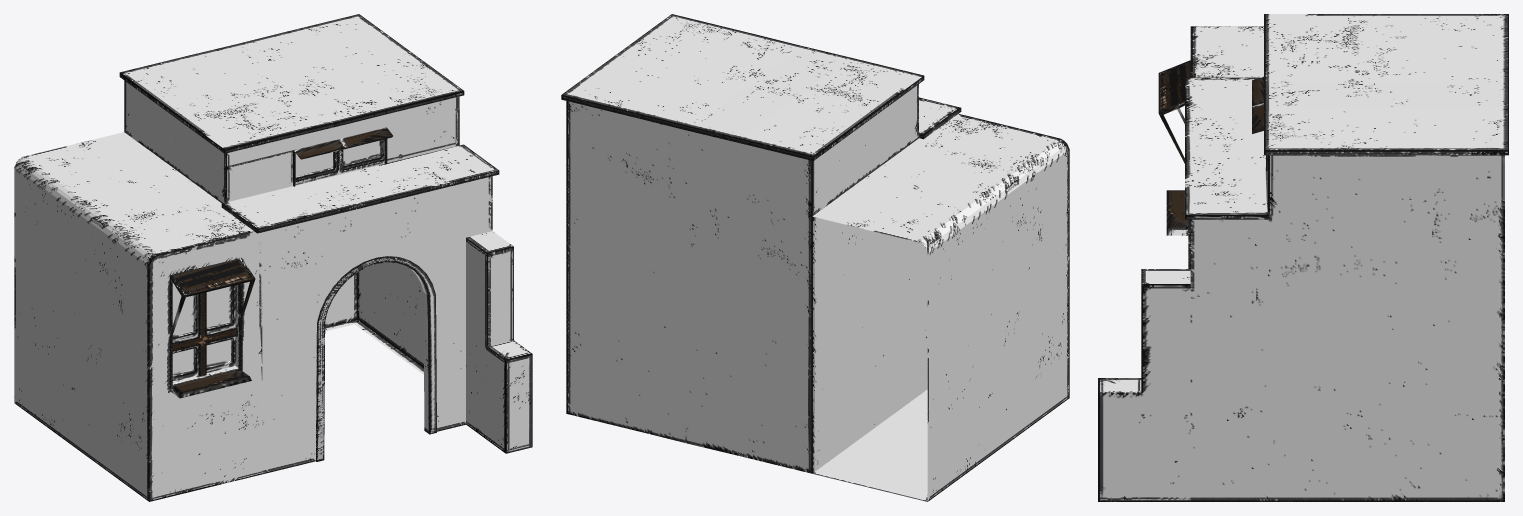
File: EDIF1.fbx
3 renders of one model, left to right at view 1: azimuth 30°, elevation 25°; view 2: azimuth 150°, elevation 25°; view 3: azimuth 270°, elevation 25°, orthographic. The views are drawn at different scales.
Visible parts, largest first — view 1: Cube, Cube.002; view 2: Cube, Cube.002; view 3: Cube, Cube.002.
Part boxes in pixels (x1=…): Cube: x1=119, y1=14, x2=532, y2=474; Cube.002: x1=14, y1=132, x2=262, y2=501; Cube: x1=561, y1=14, x2=961, y2=473; Cube.002: x1=812, y1=113, x2=1069, y2=501; Cube: x1=1098, y1=14, x2=1508, y2=501; Cube.002: x1=1158, y1=26, x2=1263, y2=235.
Bounding box in the file's own units: 1489 × 1242 × 1308.
1 material, 1 textured.
